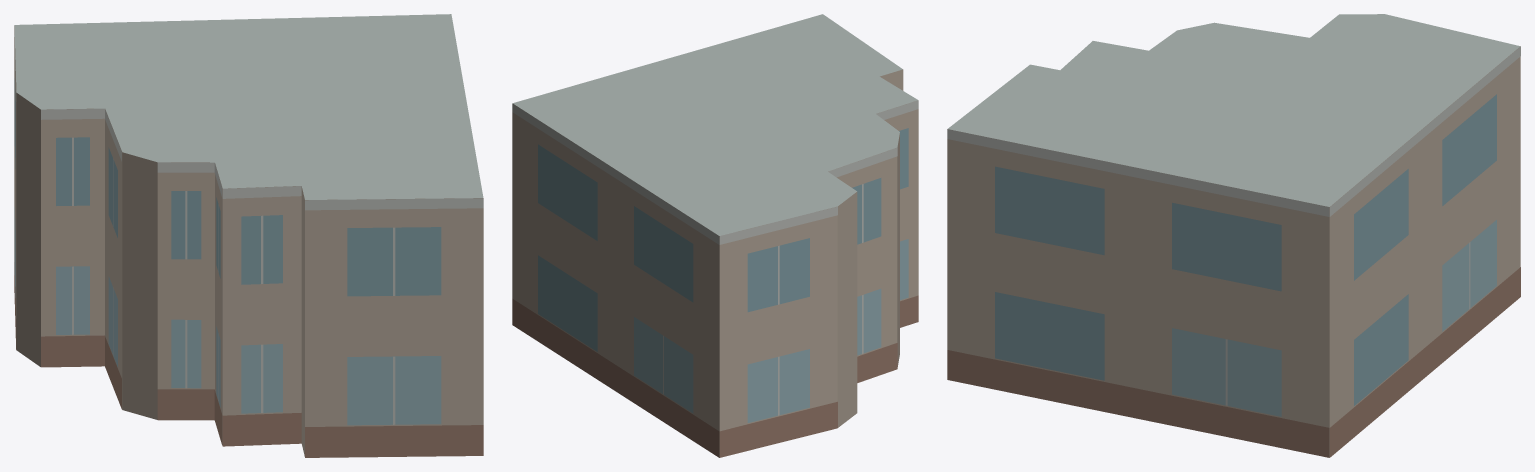
Rendered from survey-upis-32499724.glb.
3 renders of one model, left to right at view 1: azimuth 30°, elevation 25°; view 2: azimuth 150°, elevation 25°; view 3: azimuth 270°, elevation 25°, orthographic. The views are drawn at different scales.
Visible parts, largest first — view 1: survey-upis-32499724.tmp; view 2: survey-upis-32499724.tmp; view 3: survey-upis-32499724.tmp.
Boxes of the visible parts, <box> form: survey-upis-32499724.tmp: <box>14,14,483,457</box>; survey-upis-32499724.tmp: <box>512,14,918,457</box>; survey-upis-32499724.tmp: <box>947,14,1520,457</box>.
Bounding box in the file's own units: 10.08 × 6.1 × 12.65.
